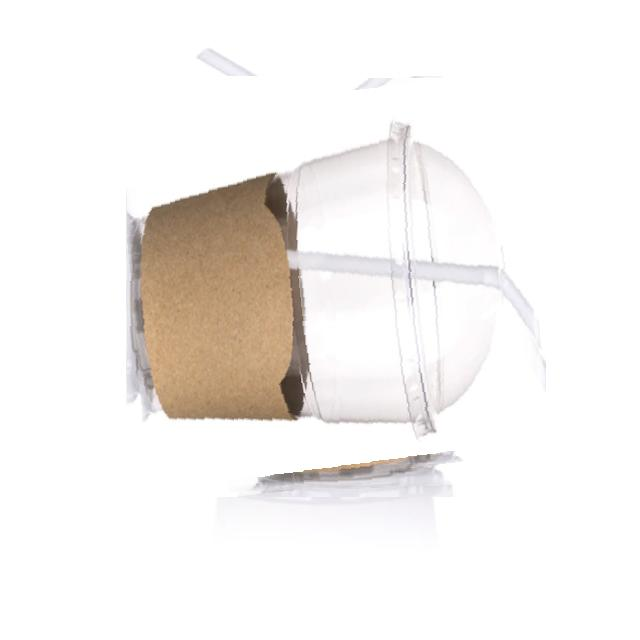recyclable: (127, 78, 544, 495)
